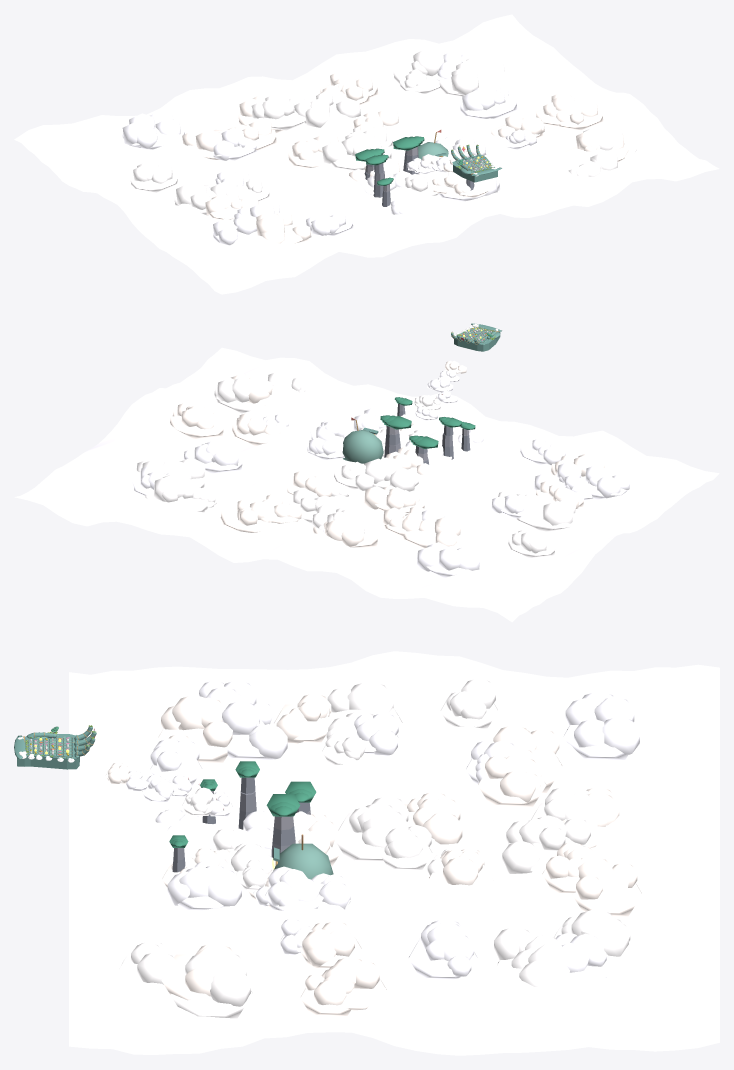
The model's file is _pkg_estimate_ccq.glb.
The picture shows the model from 3 angles, top to bottom: view 1: azimuth 30°, elevation 25°; view 2: azimuth 150°, elevation 25°; view 3: azimuth 270°, elevation 25°; orthographic projection. The views are drawn at different scales.
Parts seen in each view (by area): view 1: object 1, object 122, object 128; view 2: object 1, object 122, object 131, object 128; view 3: object 1, object 122, object 128, object 131, object 292.
Boxes of the visible parts, x1,y1,x2,y2 form: object 1: (14, 14, 719, 294); object 122: (122, 46, 636, 245); object 128: (355, 136, 424, 185); object 1: (14, 327, 719, 622); object 122: (132, 323, 630, 577); object 131: (342, 329, 485, 463); object 128: (380, 397, 475, 448); object 1: (25, 651, 719, 1055); object 122: (17, 678, 641, 1018); object 128: (171, 761, 316, 847); object 131: (25, 728, 333, 879); object 292: (17, 734, 79, 769).
Size of the model in its own units: 180 by 32.75 by 141.
